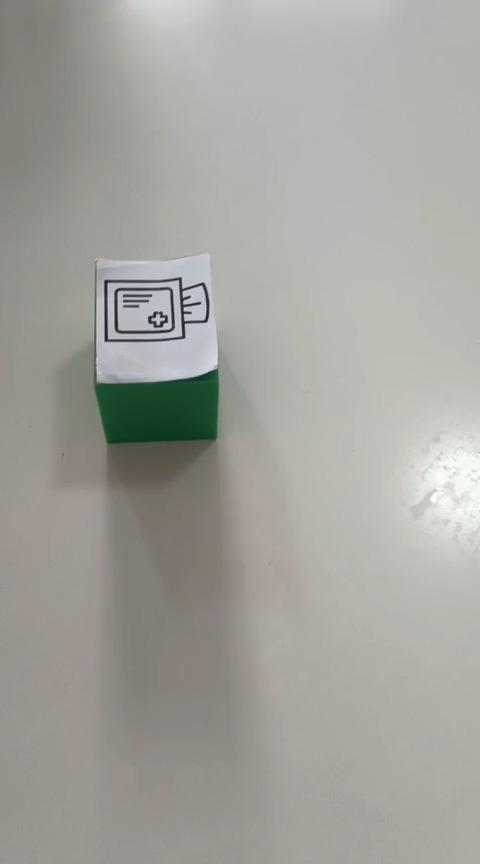Gauze: (92, 251, 220, 443)
